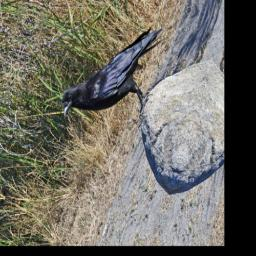Crow: (54, 3, 174, 142)
